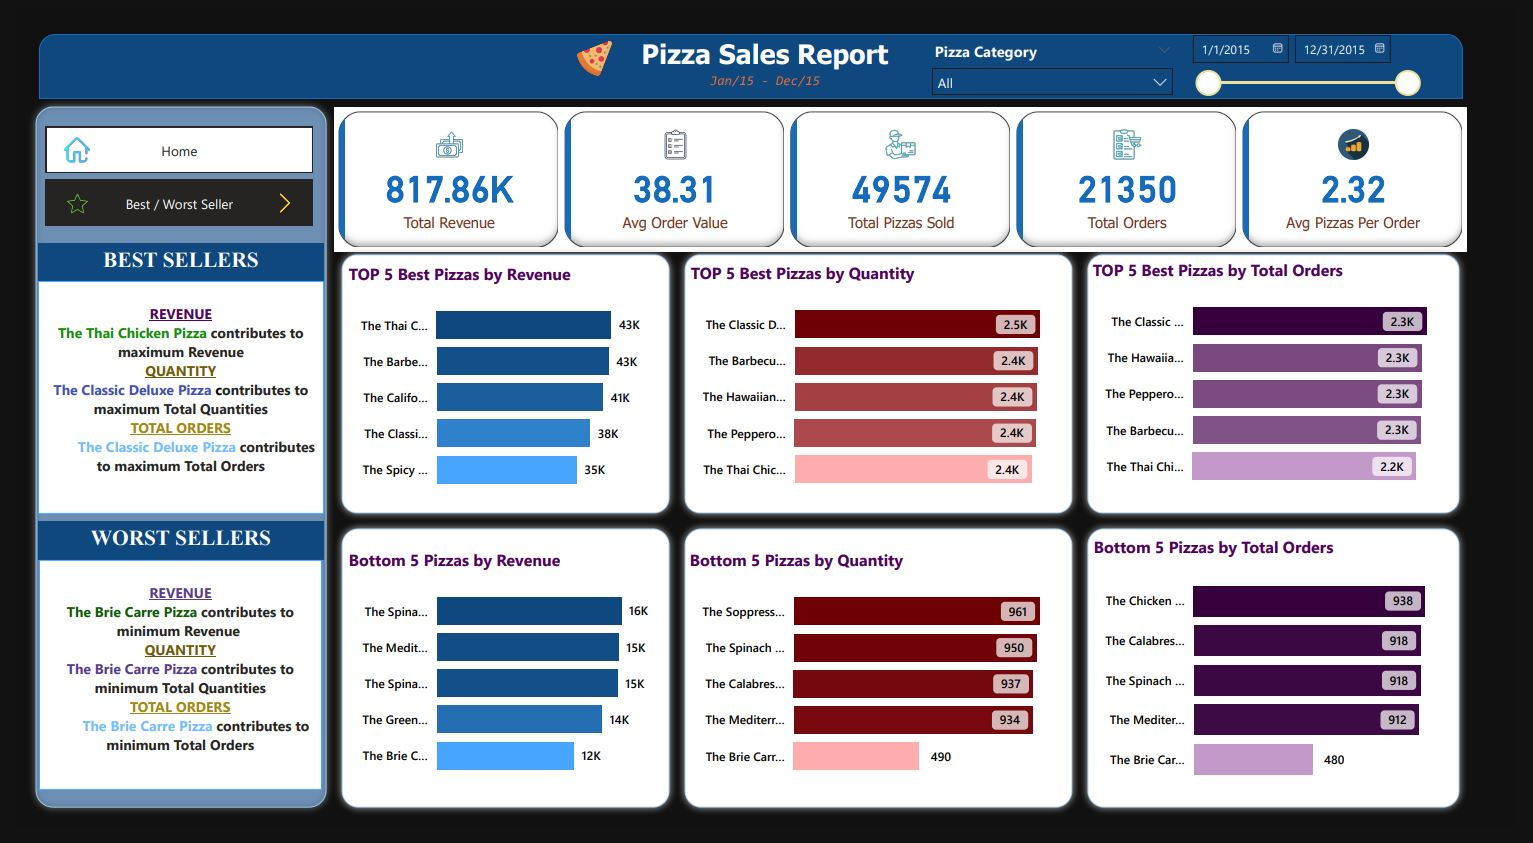

The page's visual inventory and layout, read from the dashboard file:
{"tool":"powerbi","page":{"name":"Best / Worst Seller","canvas":[1500,820],"ordinal":1},"visuals":[{"type":"cardVisual","fields":{"Data":["pizza_sales.Total Revenue","pizza_sales.Avg Order Value","pizza_sales.Total Pizzas Sold","pizza_sales.Total Orders","pizza_sales.Avg Pizzas Per Order"]},"box":[319.4,100.1,1133.1,144.5],"z":0},{"type":"shape","box":[24.3,27.3,1424.2,64.7],"z":1000},{"type":"textbox","box":[599.8,25.3,300.5,51.8],"z":2000},{"type":"textbox","box":[661.9,58.7,176.1,31.1],"z":3000},{"type":"image","box":[553.9,29.3,52.6,45.5],"z":4000},{"type":"shape","box":[319.4,239.6,342.7,274.9],"z":5000},{"type":"shape","box":[12.7,92.1,306.2,716],"z":15000},{"type":"textbox","box":[23,236,285.5,39.1],"z":16000},{"type":"textbox","box":[23,274,286,232.5],"z":17000},{"type":"textbox","box":[23,514,285.5,39.1],"z":18000},{"type":"textbox","box":[24.2,553,283.2,230.2],"z":19000},{"type":"slicer","fields":{"Values":["pizza_sales.pizza_category"]},"box":[907.1,28.8,261.3,61],"z":20000},{"type":"slicer","fields":{"Values":["pizza_sales.order_date"]},"box":[1165,18.4,248.7,79.4],"z":21000},{"type":"shape","box":[662.1,239.6,403.3,274.9],"z":21001},{"type":"shape","box":[1065.4,239.6,387.1,274.9],"z":21002},{"type":"shape","box":[319.4,514.5,342.7,293.1],"z":21003},{"type":"shape","box":[662.1,514.5,403.3,293.1],"z":21004},{"type":"shape","box":[1065.4,514.5,387.1,293.1],"z":21005},{"type":"barChart","title":"TOP 5 Best Pizzas by Revenue","fields":{"Category":["pizza_sales.pizza_name"],"Y":["pizza_sales.Total Revenue"]},"box":[328.5,255.7,321.4,241.6],"z":21006},{"type":"barChart","title":"Bottom 5 Pizzas by Revenue","fields":{"Category":["pizza_sales.pizza_name"],"Y":["pizza_sales.Total Revenue"]},"box":[328.5,541.8,321.4,241.6],"z":21007},{"type":"barChart","title":"TOP 5 Best Pizzas by Quantity","fields":{"Category":["pizza_sales.pizza_name"],"Y":["pizza_sales.Total Pizzas Sold"]},"box":[671.2,254.7,383.1,242.6],"z":21008},{"type":"barChart","title":"Bottom 5 Pizzas by Quantity","fields":{"Category":["pizza_sales.pizza_name"],"Y":["pizza_sales.Total Pizzas Sold"]},"box":[670.1,541.8,384.1,242.6],"z":21009},{"type":"barChart","title":"TOP 5 Best Pizzas by Total Orders","fields":{"Category":["pizza_sales.pizza_name"],"Y":["pizza_sales.Total Orders"]},"box":[1073.5,251.7,368.9,242.6],"z":21010},{"type":"barChart","title":"Bottom 5 Pizzas by Total Orders","fields":{"Category":["pizza_sales.pizza_name"],"Y":["pizza_sales.Total Orders"]},"box":[1074.5,528.6,367.9,261.8],"z":21011},{"type":"pageNavigator","box":[31.3,172.8,266.8,46.5],"z":21012},{"type":"pageNavigator","box":[31,120,266.8,46.5],"z":21013},{"type":"image","box":[252.7,181.9,34.4,29.3],"z":21014},{"type":"image","box":[45.5,126.3,34.4,34.4],"z":21015},{"type":"image","box":[47.5,178.9,30.3,36.4],"z":21016}]}

Visuals, with their boxes in screenshot pixels (x1, y1, x2, y2), scaled from the page's 1500x820 canvas onto the 1533x843 screenshot:
cardVisual - pizza_sales.Total Revenue x pizza_sales.Avg Order Value: 326 103 1484 251
shape: 25 28 1480 95
textbox: 613 26 920 79
textbox: 676 60 856 92
image: 566 30 620 77
shape: 326 246 677 529
shape: 13 95 326 831
textbox: 24 243 315 283
textbox: 24 282 316 521
textbox: 24 528 315 569
textbox: 25 569 314 805
slicer - pizza_sales.pizza_category: 927 30 1194 92
slicer - pizza_sales.order_date: 1191 19 1445 101
shape: 677 246 1089 529
shape: 1089 246 1484 529
shape: 326 529 677 830
shape: 677 529 1089 830
shape: 1089 529 1484 830
"TOP 5 Best Pizzas by Revenue" barChart: 336 263 664 511
"Bottom 5 Pizzas by Revenue" barChart: 336 557 664 805
"TOP 5 Best Pizzas by Quantity" barChart: 686 262 1077 511
"Bottom 5 Pizzas by Quantity" barChart: 685 557 1077 806
"TOP 5 Best Pizzas by Total Orders" barChart: 1097 259 1474 508
"Bottom 5 Pizzas by Total Orders" barChart: 1098 543 1474 813
pageNavigator: 32 178 305 225
pageNavigator: 32 123 304 171
image: 258 187 293 217
image: 47 130 82 165
image: 49 184 80 221
